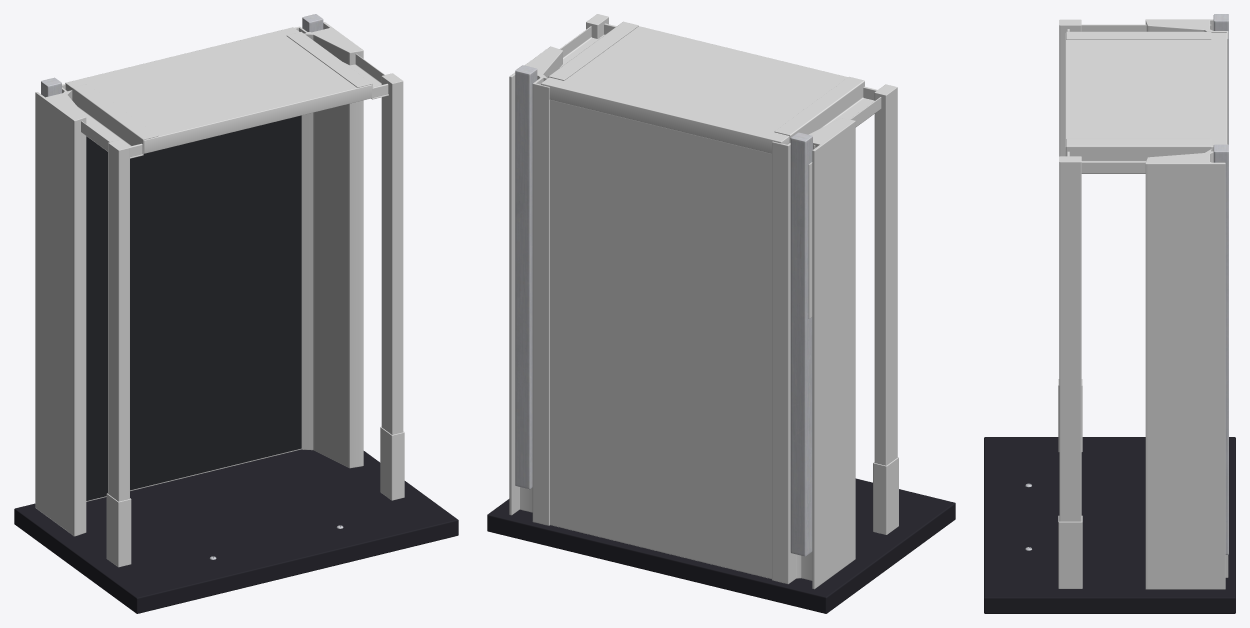
The model's file is SM_Kitchen_10_Drawer_02.obj.
The picture shows the model from 3 angles, left to right: view 1: azimuth 30°, elevation 25°; view 2: azimuth 150°, elevation 25°; view 3: azimuth 270°, elevation 25°; orthographic projection. The views are drawn at different scales.
Visible parts, largest first — view 1: SM_Kitchen_06_Base_Drawer_02; view 2: SM_Kitchen_06_Base_Drawer_02; view 3: SM_Kitchen_06_Base_Drawer_02.
Boxes of the visible parts, x1=… form: SM_Kitchen_06_Base_Drawer_02: x1=14, y1=14, x2=458, y2=613; SM_Kitchen_06_Base_Drawer_02: x1=487, y1=14, x2=955, y2=613; SM_Kitchen_06_Base_Drawer_02: x1=984, y1=14, x2=1235, y2=613.
Bounding box in the file's own units: 0.398 × 0.5199 × 0.263.
